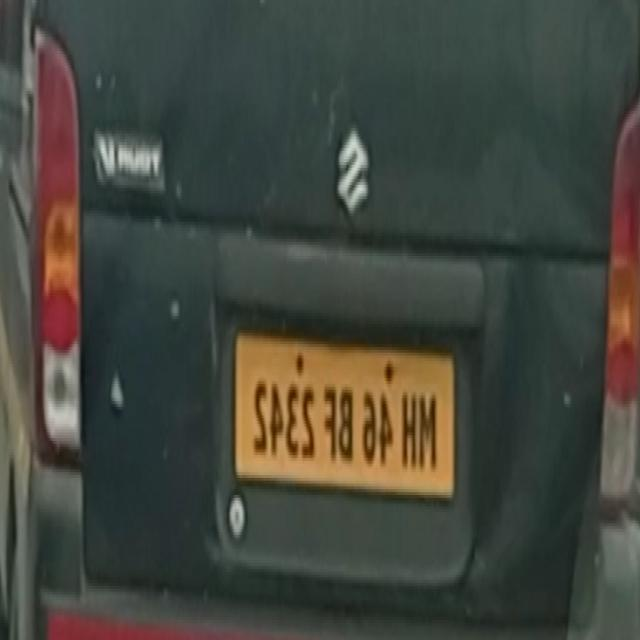license_plate: (231, 320, 459, 512)
